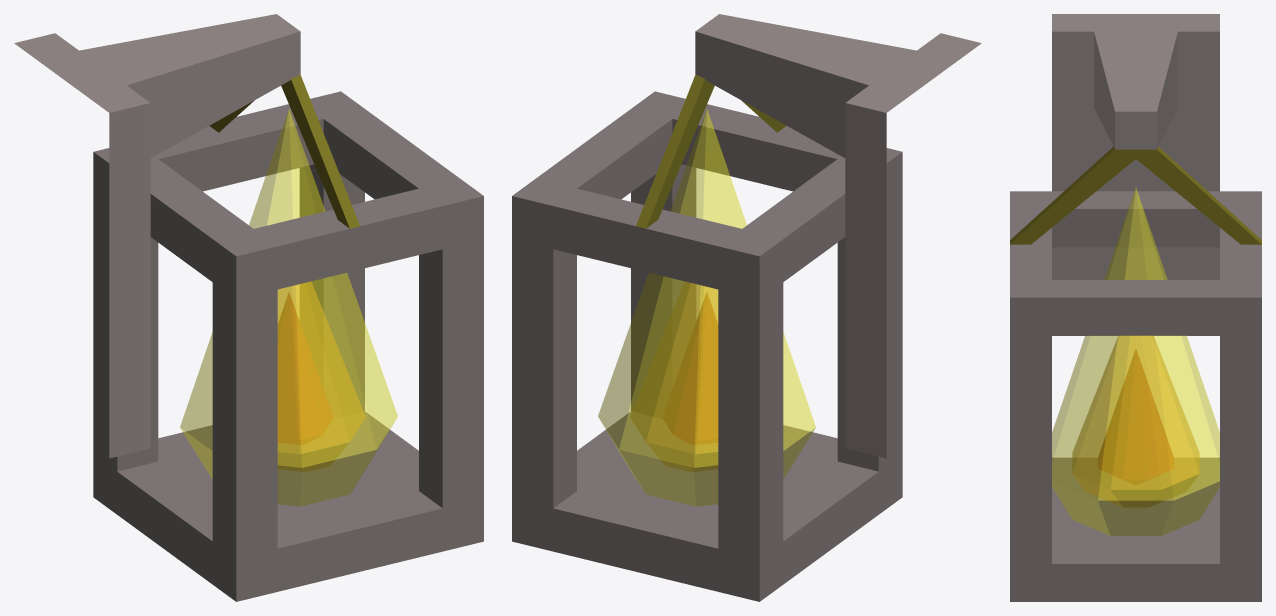
The picture shows the model from 3 angles, left to right: view 1: azimuth 30°, elevation 25°; view 2: azimuth 150°, elevation 25°; view 3: azimuth 270°, elevation 25°; orthographic projection. The views are drawn at different scales.
Bounding box in the file's own units: 34 × 46 × 24.
Materials: 2 (2 with a texture image).
